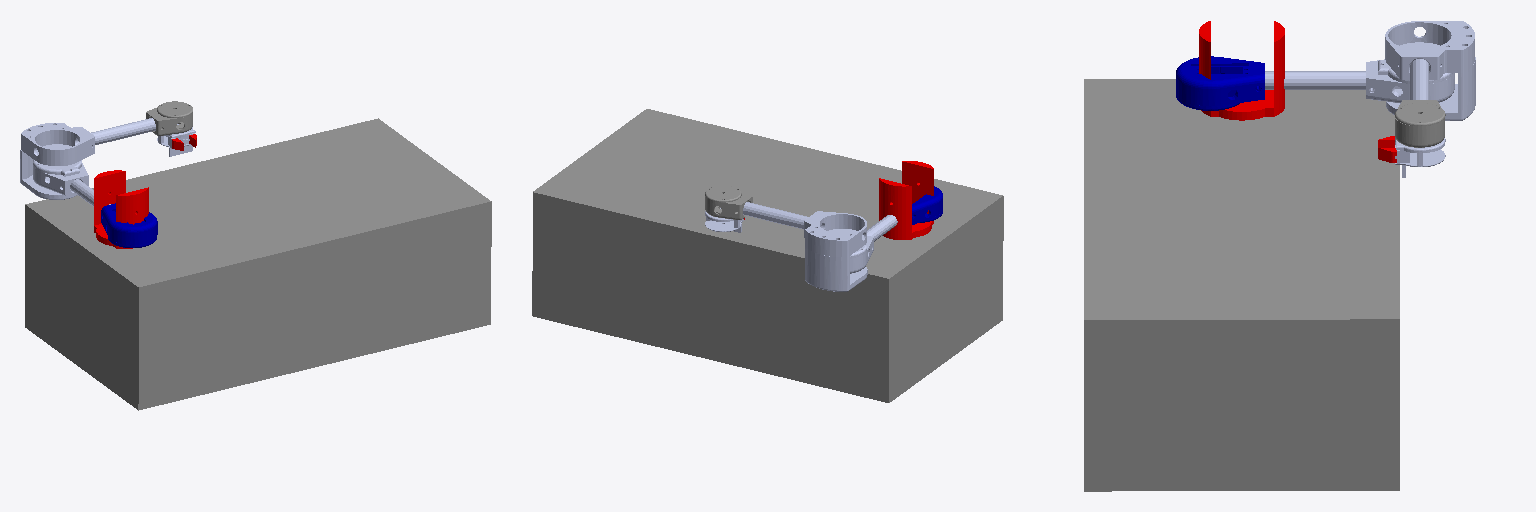
URDF robot description (robot_arm_three):
<?xml version="1.0" encoding="utf-8"?>
<!-- This URDF was automatically created by SolidWorks to URDF Exporter! Originally created by Stephen Brawner (brawner@gmail.com) 
     Commit Version: 1.6.0-4-g7f85cfe  Build Version: 1.6.7995.38578
     For more information, please see http://wiki.ros.org/sw_urdf_exporter -->
<robot
  name="robot_arm_three">
 <link
    name="base_link">
    <inertial>
      <origin
        xyz="0.45153 -0.15 0.25"
        rpy="0 0 0" />
      <mass
        value="500" />
      <inertia
        ixx="3.8205"
        ixy="1.1749E-16"
        ixz="-4.326E-14"
        iyy="11.852"
        iyz="-6.4283E-15"
        izz="10.048" />
    </inertial>
    <visual>
      <origin
        xyz="0 0 0"
        rpy="0 0 0" />
      <geometry>
        <mesh
          filename="package://robot_arm_three/meshes/base_link.STL" />
      </geometry>
      <material
        name="">
        <color
          rgba="0.62745 0.62745 0.62745 1" />
      </material>
    </visual>
    <collision>
      <origin
        xyz="0 0 0"
        rpy="0 0 0" />
      <geometry>
        <mesh
          filename="package://robot_arm_three/meshes/base_link.STL" />
      </geometry>
      <material
        name="">
        <color
          rgba="0.62745 0.62745 0.62745 1" />
      </material>
    </collision>
  </link>
  <link
    name="Moving_base_Link">
    <inertial>
      <origin
        xyz="-7.4784E-11 2.488E-09 -0.030092"
        rpy="0 0 0" />
      <mass
        value="0.41044" />
      <inertia
        ixx="0.00049787"
        ixy="8.1471E-14"
        ixz="-5.1495E-13"
        iyy="0.00059376"
        iyz="2.0784E-12"
        izz="0.00032503" />
    </inertial>
    <visual>
      <origin
        xyz="0 0 0"
        rpy="0 0 0" />
      <geometry>
        <mesh
          filename="package://robot_arm_three/meshes/Moving_base_Link.STL" />
      </geometry>
      <material
        name="">
        <color
          rgba="1 0 0 1" />
      </material>
    </visual>
    <collision>
      <origin
        xyz="0 0 0"
        rpy="0 0 0" />
      <geometry>
        <mesh
          filename="package://robot_arm_three/meshes/Moving_base_Link.STL" />
      </geometry>
    </collision>
  </link>
  <joint
    name="base_joint"
    type="fixed">
    <origin
      xyz="0.1 -0.315 0.25"
      rpy="-1.5708 0 0" />
    <parent
      link="base_link" />
    <child
      link="Moving_base_Link" />
    <axis
      xyz="0 0 0" />
  </joint>
  <link
    name="First_axis_link">
    <inertial>
      <origin
        xyz="0.00020443 -0.016953 0.042441"
        rpy="0 0 0" />
      <mass
        value="0.2878" />
      <inertia
        ixx="0.00047468"
        ixy="2.6726E-07"
        ixz="6.9283E-07"
        iyy="0.00028851"
        iyz="2.1973E-05"
        izz="0.0007004" />
    </inertial>
    <visual>
      <origin
        xyz="0 0 0"
        rpy="0 0 0" />
      <geometry>
        <mesh
          filename="package://robot_arm_three/meshes/First_axis_link.STL" />
      </geometry>
      <material
        name="">
        <color
          rgba="0 0 0.75294 1" />
      </material>
    </visual>
    <collision>
      <origin
        xyz="0 0 0"
        rpy="0 0 0" />
      <geometry>
        <mesh
          filename="package://robot_arm_three/meshes/First_axis_link.STL" />
      </geometry>
    </collision>
  </link>
  <joint
    name="First_axis_joint"
    type="revolute">
    <origin
      xyz="0 0.05 -0.07"
      rpy="0 0 0" />
    <parent
      link="Moving_base_Link" />
    <child
      link="First_axis_link" />
    <axis
      xyz="0 0 1" />
    <limit
      lower="-1.57"
      upper="1.57"
      effort="200"
      velocity="7" />
    <dynamics
      damping="0.05"
      friction="0.05" />
    <safety_controller
      soft_upper_limit="-0.1"
      soft_lower_limit="0.1"
      k_position="50"
      k_velocity="50" />
  </joint>
  <link
    name="First_Mil_link">
    <inertial>
      <origin
        xyz="0 6.9389E-18 0.1"
        rpy="0 0 0" />
      <mass
        value="0.14137" />
      <inertia
        ixx="0.00047919"
        ixy="6.365E-22"
        ixz="-3.3602E-20"
        iyy="0.00047919"
        iyz="4.9964E-21"
        izz="1.5904E-05" />
    </inertial>
    <visual>
      <origin
        xyz="0 0 0"
        rpy="0 0 0" />
      <geometry>
        <mesh
          filename="package://robot_arm_three/meshes/First_Mil_link.STL" />
      </geometry>
      <material
        name="">
        <color
          rgba="0.79216 0.81961 0.93333 1" />
      </material>
    </visual>
    <collision>
      <origin
        xyz="0 0 0"
        rpy="0 0 0" />
      <geometry>
        <mesh
          filename="package://robot_arm_three/meshes/First_Mil_link.STL" />
      </geometry>
    </collision>
  </link>
  <joint
    name="First_Mil_joint"
    type="fixed">
    <origin
      xyz="-0.00020649 -0.065626 0.041309"
      rpy="1.5709 0 -0.00032045" />
    <parent
      link="First_axis_link" />
    <child
      link="First_Mil_link" />
    <axis
      xyz="0 0 0" />
  </joint>
  <link
    name="Second_fixing_axis_link">
    <inertial>
      <origin
        xyz="0.00045772 -0.0011495 0.048671"
        rpy="0 0 0" />
      <mass
        value="0.2878" />
      <inertia
        ixx="0.00047467"
        ixy="3.0307E-07"
        ixz="7.1506E-08"
        iyy="0.0007004"
        iyz="-2.1995E-05"
        izz="0.00028851" />
    </inertial>
    <visual>
      <origin
        xyz="0 0 0"
        rpy="0 0 0" />
      <geometry>
        <mesh
          filename="package://robot_arm_three/meshes/Second_fixing_axis_link.STL" />
      </geometry>
      <material
        name="">
        <color
          rgba="0.79216 0.81961 0.93333 1" />
      </material>
    </visual>
    <collision>
      <origin
        xyz="0 0 0"
        rpy="0 0 0" />
      <geometry>
        <mesh
          filename="package://robot_arm_three/meshes/Second_fixing_axis_link.STL" />
      </geometry>
    </collision>
  </link>
  <joint
    name="First_mil_second_fixing_axis_joint"
    type="fixed">
    <origin
      xyz="0 0 0.2"
      rpy="0 0 0" />
    <parent
      link="First_Mil_link" />
    <child
      link="Second_fixing_axis_link" />
    <axis
      xyz="0 0 0" />
  </joint>
  <link
    name="Second_axis_link">
    <inertial>
      <origin
        xyz="0.0058045 -0.034292 0.02648"
        rpy="0 0 0" />
      <mass
        value="0.63376" />
      <inertia
        ixx="0.0012314"
        ixy="-0.00012396"
        ixz="1.0726E-05"
        iyy="0.0010088"
        iyz="-0.0001858"
        izz="0.0017832" />
    </inertial>
    <visual>
      <origin
        xyz="0 0 0"
        rpy="0 0 0" />
      <geometry>
        <mesh
          filename="package://robot_arm_three/meshes/Second_axis_link.STL" />
      </geometry>
      <material
        name="">
        <color
          rgba="0.79216 0.81961 0.93333 1" />
      </material>
    </visual>
    <collision>
      <origin
        xyz="0 0 0"
        rpy="0 0 0" />
      <geometry>
        <mesh
          filename="package://robot_arm_three/meshes/Second_axis_link.STL" />
      </geometry>
    </collision>
  </link>
  <joint
    name="Second_axis_joint"
    type="revolute">
    <origin
      xyz="0.0004575 -0.043784 0.065618"
      rpy="-1.5708 0.00032045 0" />
    <parent
      link="Second_fixing_axis_link" />
    <child
      link="Second_axis_link" />
    <axis
      xyz="0 0 1" />
    <limit
      lower="-4.65"
      upper="1.5"
      effort="200"
      velocity="7" />
    <dynamics
      damping="0.05"
      friction="0.05" />
    <safety_controller
      soft_upper_limit="-0.1"
      soft_lower_limit="0.1"
      k_position="50"
      k_velocity="50" />
  </joint>
  <link
    name="Second_mil_link">
    <inertial>
      <origin
        xyz="-0.0083972 0.0054255 0.11033"
        rpy="0 0 0" />
      <mass
        value="0.14137" />
      <inertia
        ixx="0.00047919"
        ixy="1.2794E-21"
        ixz="7.0399E-20"
        iyy="0.00047919"
        iyz="-2.9758E-20"
        izz="1.5904E-05" />
    </inertial>
    <visual>
      <origin
        xyz="0 0 0"
        rpy="0 0 0" />
      <geometry>
        <mesh
          filename="package://robot_arm_three/meshes/Second_mil_link.STL" />
      </geometry>
      <material
        name="">
        <color
          rgba="0.79216 0.81961 0.93333 1" />
      </material>
    </visual>
    <collision>
      <origin
        xyz="0 0 0"
        rpy="0 0 0" />
      <geometry>
        <mesh
          filename="package://robot_arm_three/meshes/Second_mil_link.STL" />
      </geometry>
    </collision>
  </link>
  <joint
    name="Second_mil_joint"
    type="fixed">
    <origin
      xyz="0.049694 0.0055217 -0.0066038"
      rpy="1.5708 -1.5707 1.5708" />
    <parent
      link="Second_axis_link" />
    <child
      link="Second_mil_link" />
    <axis
      xyz="0 0 0" />
  </joint>
  <link
    name="Third_fixing_axis_link">
    <inertial>
      <origin
        xyz="-0.00047757 6.3774E-05 0.02611"
        rpy="0 0 0" />
      <mass
        value="0.13374" />
      <inertia
        ixx="0.00017544"
        ixy="4.9987E-10"
        ixz="-7.574E-06"
        iyy="0.00012399"
        iyz="4.6365E-09"
        izz="8.8845E-05" />
    </inertial>
    <visual>
      <origin
        xyz="0 0 0"
        rpy="0 0 0" />
      <geometry>
        <mesh
          filename="package://robot_arm_three/meshes/Third_fixing_axis_link.STL" />
      </geometry>
      <material
        name="">
        <color
          rgba="0.62745 0.62745 0.62745 1" />
      </material>
    </visual>
    <collision>
      <origin
        xyz="0 0 0"
        rpy="0 0 0" />
      <geometry>
        <mesh
          filename="package://robot_arm_three/meshes/Third_fixing_axis_link.STL" />
      </geometry>
    </collision>
  </link>
  <joint
    name="second_mil_third_fixing_axis_joint"
    type="fixed">
    <origin
      xyz="-0.0083972 0.0054255 0.21033"
      rpy="0 0 0" />
    <parent
      link="Second_mil_link" />
    <child
      link="Third_fixing_axis_link" />
    <axis
      xyz="0 0 0" />
  </joint>
  <link
    name="Third_axis_link">
    <inertial>
      <origin
        xyz="1.2302E-06 0.0046698 0.013516"
        rpy="0 0 0" />
      <mass
        value="0.053567" />
      <inertia
        ixx="2.4098E-05"
        ixy="-1.5016E-09"
        ixz="-3.5463E-08"
        iyy="2.8157E-05"
        iyz="-1.2699E-06"
        izz="4.8213E-05" />
    </inertial>
    <visual>
      <origin
        xyz="0 0 0"
        rpy="0 0 0" />
      <geometry>
        <mesh
          filename="package://robot_arm_three/meshes/Third_axis_link.STL" />
      </geometry>
      <material
        name="">
        <color
          rgba="0.79216 0.81961 0.93333 1" />
      </material>
    </visual>
    <collision>
      <origin
        xyz="0 0 0"
        rpy="0 0 0" />
      <geometry>
        <mesh
          filename="package://robot_arm_three/meshes/Third_axis_link.STL" />
      </geometry>
    </collision>
  </link>
  <joint
    name="Third_axis_joint"
    type="revolute">
    <origin
      xyz="0.02 0.00062296 0.04"
      rpy="3.14 -1.5708 0" />
    <parent
      link="Third_fixing_axis_link" />
    <child
      link="Third_axis_link" />
    <axis
      xyz="0 0 -1" />
    <limit
      lower="-3.14"
      upper="3.14"
      effort="200"
      velocity="7" />
    <dynamics
      damping="0.05"
      friction="0.05" />
    <safety_controller
      soft_upper_limit="-0.1"
      soft_lower_limit="0.1"
      k_position="50"
      k_velocity="50" />
  </joint>
<link
    name="camera_link">
    <inertial>
      <origin
        xyz="0.00742671528155842 0 0"
        rpy="0 0 0" />
      <mass
        value="0.00669817477042468" />
      <inertia
        ixx="2.24650679615758E-06"
        ixy="-2.85635805272217E-23"
        ixz="-3.36613657076379E-22"
        iyy="1.99652632455908E-06"
        iyz="3.23338469113802E-17"
        izz="2.8272632455908E-07" />
    </inertial>
    <visual>
      <origin
        xyz="0 0 0"
        rpy="0 0 0" />
      <geometry>
        <mesh
          filename="package://robot_arm_three/meshes/camera_link.STL" />
      </geometry>
      <material
        name="">
        <color
          rgba="0.792156862745098 0.819607843137255 0.933333333333333 1" />
      </material>
    </visual>
    <collision>
      <origin
        xyz="0 0 0"
        rpy="0 0 0" />
      <geometry>
        <mesh
          filename="package://robot_arm_three/meshes/camera_link.STL" />
      </geometry>
    </collision>
  </link>
  <joint
    name="camera_joint"
    type="fixed">
    <origin
      xyz="0 0.0331562787109546 0.0434999999999439"
      rpy="1.57079632677603 0 -1.5707963267949" />
    <parent
      link="Third_axis_link" />
    <child
      link="camera_link" />
    <axis
      xyz="0 0 0" />
  </joint>


<link name="base_lift_link"/>
<joint name="base_lift_joint" type="fixed">
    <parent link="base_lift_link"/>
    <child link="base_link"/>
    <origin xyz="0 0 0" rpy="-1.57 0 0"/>
  </joint>
<!-- ///////////////////////// gazebo  parameters////////////////////////////-->

    <gazebo reference="camera_link">
        <sensor name="camera" type="camera">
         <pose>0 0 0 0 0 -3.14</pose> <!-- roll pitch yaw -->
            <always_on>true</always_on>
            <update_rate>60</update_rate>        <!-- FPS -->
            <visualize>true</visualize>
            <camera>
            <horizontal_fov>1.047</horizontal_fov> <!-- 60 derece -->
            <image>
                <width>640</width>
                <height>480</height>
                <format>R8G8B8</format>
            </image>
            <clip>
                <near>0.1</near>
                <far>100</far>
            </clip>
            </camera>
            <plugin filename="gz-sim-sensors-system"
            name="gz::sim::systems::Sensors"/>
           
            <topic>camera/image</topic> <!-- Gazebo topic -->
        </sensor>
    </gazebo>




<link
    name="gripper_base_link">
    <inertial>
      <origin
        xyz="-1.38777878078145E-17 0.00507773909729814 -3.00330654887104E-07"
        rpy="0 0 0" />
      <mass
        value="0.00737896174553321" />
      <inertia
        ixx="2.93127171204422E-07"
        ixy="-1.35475293940183E-21"
        ixz="7.18304419805119E-22"
        iyy="2.46379796999463E-06"
        iyz="-1.43231223323957E-11"
        izz="2.22163461829653E-06" />
    </inertial>
    <visual>
      <origin
        xyz="0 0 0"
        rpy="0 0 0" />
      <geometry>
        <mesh
          filename="package://robot_arm_three/meshes/gripper_base_link.STL" />
      </geometry>
      <material
        name="">
        <color
          rgba="0.792156862745098 0.819607843137255 0.933333333333333 1" />
      </material>
    </visual>
    <collision>
      <origin
        xyz="0 0 0"
        rpy="0 0 0" />
      <geometry>
        <mesh
          filename="package://robot_arm_three/meshes/gripper_base_link.STL" />
      </geometry>
    </collision>
  </link>
  <joint
    name="gripper_base_joint"
    type="fixed">
    <origin
      xyz="0 0.0395 0.019"
      rpy="5.9147E-05 0 3.1416" />
    <parent
      link="Third_axis_link" />
    <child
      link="gripper_base_link" />
    <axis
      xyz="0 0 0" />
  </joint>


  <link
    name="right_gripper_hand_link">
    <inertial>
      <origin
        xyz="-0.020998 -0.0078593 4.6485E-07"
        rpy="0 0 0" />
      <mass
        value="0.0055154" />
      <inertia
        ixx="4.5417E-07"
        ixy="6.7061E-08"
        ixz="-3.9665E-12"
        iyy="2.8042E-07"
        iyz="4.4337E-12"
        izz="3.5538E-07" />
    </inertial>
    <visual>
      <origin
        xyz="0 0 0"
        rpy="0 0 0" />
      <geometry>
        <mesh
          filename="package://robot_arm_three/meshes/right_gripper_hand_link.STL" />
      </geometry>
      <material
        name="">
        <color
          rgba="1 0 0 1" />
      </material>
    </visual>
    <collision>
      <origin
        xyz="0 0 0"
        rpy="0 0 0" />
      <geometry>
        <mesh
          filename="package://robot_arm_three/meshes/right_gripper_hand_link.STL" />
      </geometry>
    </collision>
  </link>
  <joint
    name="right_gripper_hand_joint"
    type="prismatic">
    <origin
      xyz="0 0 0"
      rpy="0 0 0" />
    <parent
      link="gripper_base_link" />
    <child
      link="right_gripper_hand_link" />
    <axis
      xyz="1 0 0" />
    <limit
      lower="-0.035"
      upper="0.035"
      effort="200"
      velocity="2" />
    <safety_controller
      soft_upper_limit="-0.005"
      soft_lower_limit="0.005"
      k_position="50"
      k_velocity="50" />
  </joint>
  <link
    name="left_gripper_hand_link">
    <inertial>
      <origin
        xyz="0.020998 -0.0078593 4.6485E-07"
        rpy="0 0 0" />
      <mass
        value="0.0055154" />
      <inertia
        ixx="4.5417E-07"
        ixy="-6.7061E-08"
        ixz="3.9665E-12"
        iyy="2.8042E-07"
        iyz="4.4337E-12"
        izz="3.5538E-07" />
    </inertial>
    <visual>
      <origin
        xyz="0 0 0"
        rpy="0 0 0" />
      <geometry>
        <mesh
          filename="package://robot_arm_three/meshes/left_gripper_hand_link.STL" />
      </geometry>
      <material
        name="">
        <color
          rgba="1 0 0 1" />
      </material>
    </visual>
    <collision>
      <origin
        xyz="0 0 0"
        rpy="0 0 0" />
      <geometry>
        <mesh
          filename="package://robot_arm_three/meshes/left_gripper_hand_link.STL" />
      </geometry>
    </collision>
  </link>
  <joint
    name="left_gripper_hand_joint"
    type="prismatic">
    <origin
      xyz="0 0 0"
      rpy="0 0 0" />
    <parent
      link="gripper_base_link" />
    <child
      link="left_gripper_hand_link" />
    <axis
      xyz="1 0 0" />
    <limit
      lower="-0.035"
      upper="0.035"
      effort="200"
      velocity="2" />
    <safety_controller
      soft_upper_limit="-0.005"
      soft_lower_limit="0.005"
      k_position="50"
      k_velocity="50" />
  </joint>


</robot>

--- Render facts (derived) ---
3 views of the same robot in one strip: view 1: azimuth 30°, elevation 25°; view 2: azimuth 150°, elevation 25°; view 3: azimuth 270°, elevation 25° (orthographic).
Model robot_arm_three with 14 links and 13 joints (3 revolute, 2 prismatic, 8 fixed), rooted at base_lift_link, posed all joints at 0.
Links seen in each view (by area): view 1: base_link, Second_axis_link, Moving_base_Link, First_axis_link, Second_fixing_axis_link, Third_fixing_axis_link, Second_mil_link; view 2: base_link, Second_axis_link, Moving_base_Link, Third_fixing_axis_link, Second_mil_link, First_axis_link; view 3: base_link, Second_axis_link, First_axis_link, Moving_base_Link, Third_fixing_axis_link, Second_fixing_axis_link, First_Mil_link, Third_axis_link, Second_mil_link.
Boxes of the visible links, box(x1,y1,x2,y2) form: base_link: box(25, 118, 491, 410); Second_axis_link: box(20, 123, 94, 199); Moving_base_Link: box(94, 170, 148, 248); First_axis_link: box(101, 203, 157, 247); Second_fixing_axis_link: box(33, 159, 88, 196); Third_fixing_axis_link: box(146, 101, 192, 135); Second_mil_link: box(91, 118, 155, 144); base_link: box(532, 109, 1003, 402); Second_axis_link: box(804, 211, 867, 291); Moving_base_Link: box(879, 161, 933, 239); Third_fixing_axis_link: box(705, 186, 752, 219); Second_mil_link: box(743, 202, 808, 229); First_axis_link: box(912, 186, 942, 224); base_link: box(1084, 79, 1399, 491); Second_axis_link: box(1385, 21, 1475, 120); First_axis_link: box(1176, 56, 1264, 110); Moving_base_Link: box(1199, 21, 1284, 120); Third_fixing_axis_link: box(1395, 100, 1445, 147); Second_fixing_axis_link: box(1366, 59, 1454, 103); First_Mil_link: box(1265, 71, 1365, 89); Third_axis_link: box(1395, 138, 1445, 166); Second_mil_link: box(1410, 59, 1428, 99).
Bounding box of the posed robot: 0.9 × 0.6194 × 0.4303 m (x, y, z).
13 mesh visuals loaded from 13 distinct referenced files (13 binary STL).
